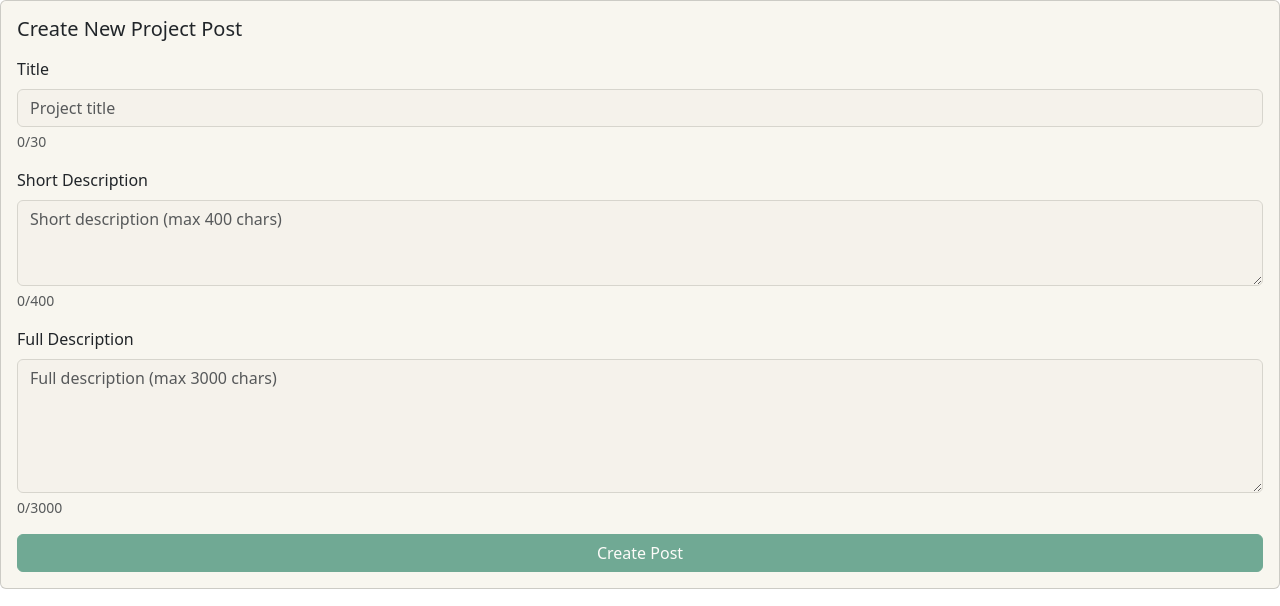
Test: CreatePost › fullDesc character counter updates as user types
The width and height of the screenshot is (1280, 606).
Step 1. Type "Hey" into the text box with placeholder "Full description (max 3000 chars)" → [640, 426], box [17,359,1263,493]
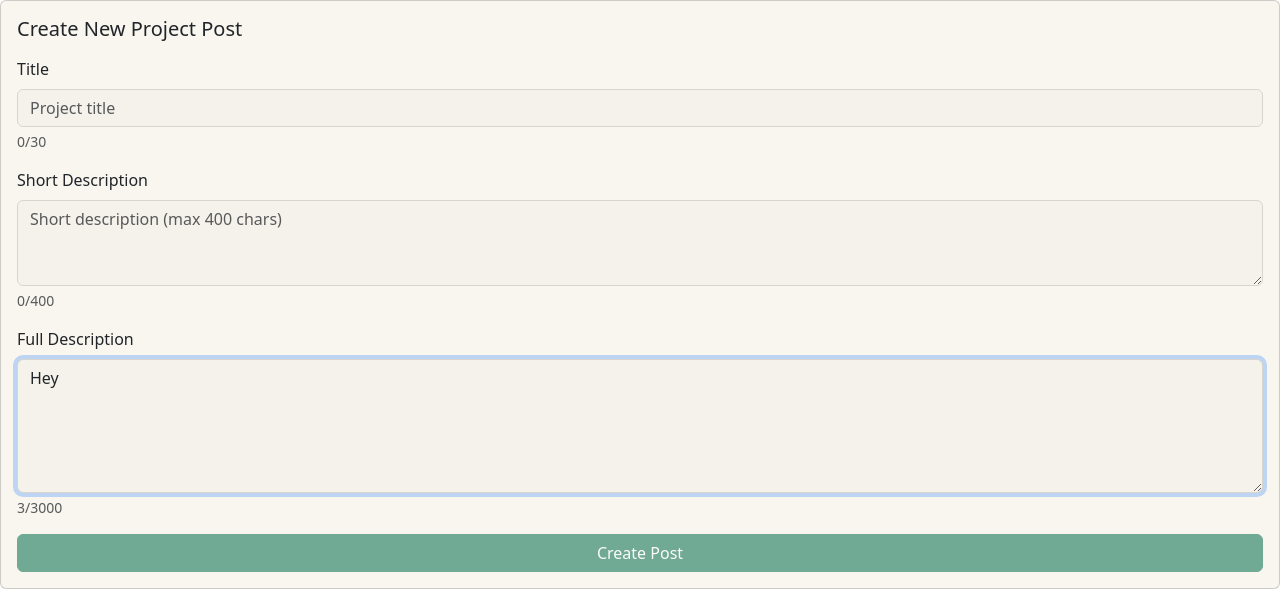
expect the text "3/3000" is shown: met, box [17,498,62,517]
